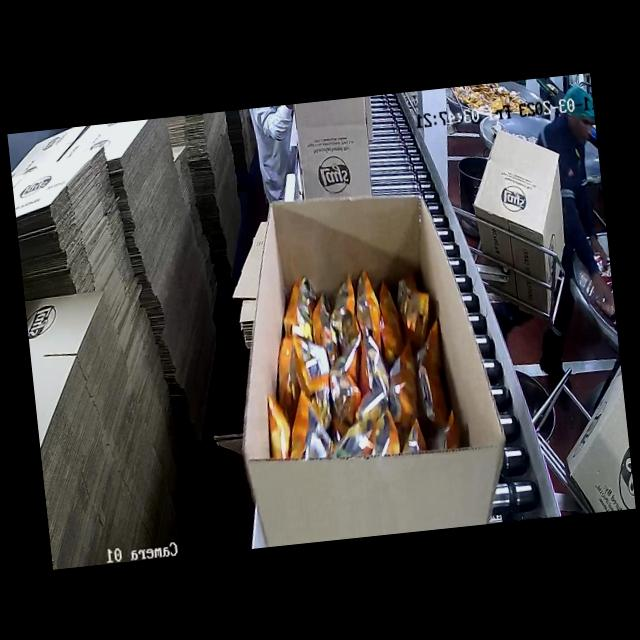cheese: (264, 255, 453, 452)
